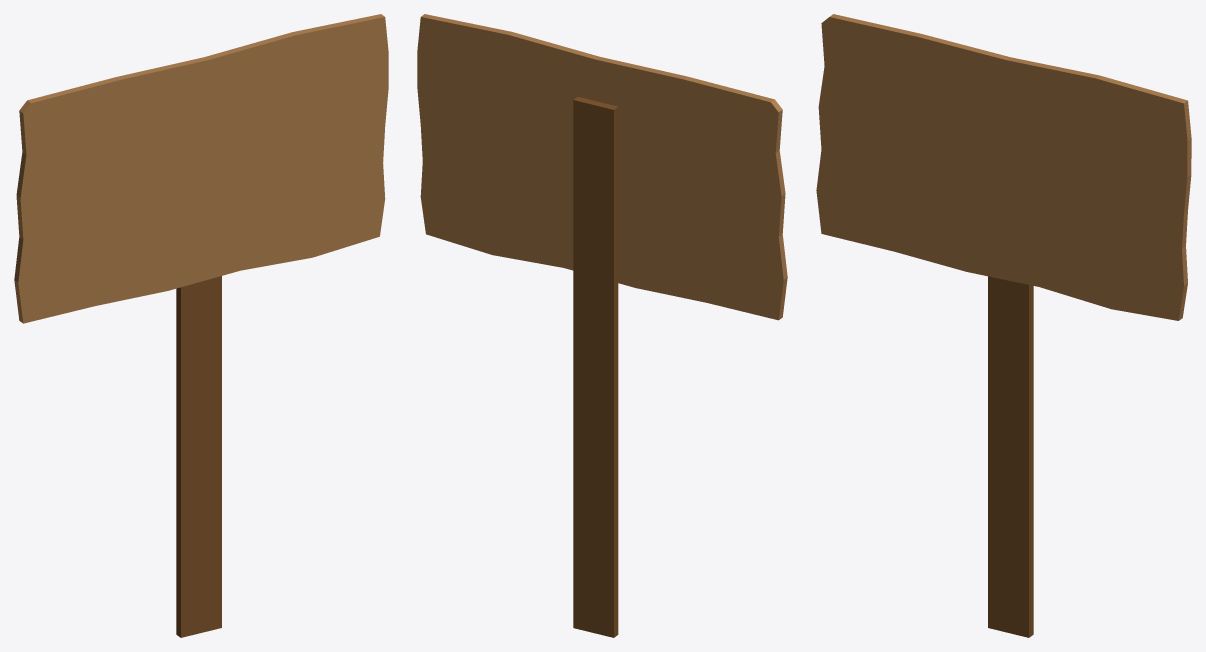
File: sign.glb
The picture shows the model from 3 angles, left to right: view 1: azimuth 30°, elevation 25°; view 2: azimuth 150°, elevation 25°; view 3: azimuth 330°, elevation 25°; orthographic projection.
Parts seen in each view (by area): view 1: Sign11; view 2: Sign11; view 3: Sign11.
Boxes of the visible parts, x1,y1,x2,y2 form: Sign11: (14, 14, 388, 637); Sign11: (417, 14, 787, 637); Sign11: (816, 14, 1191, 637).
Bounding box in the file's own units: 1.44 × 2.15 × 0.0593.
